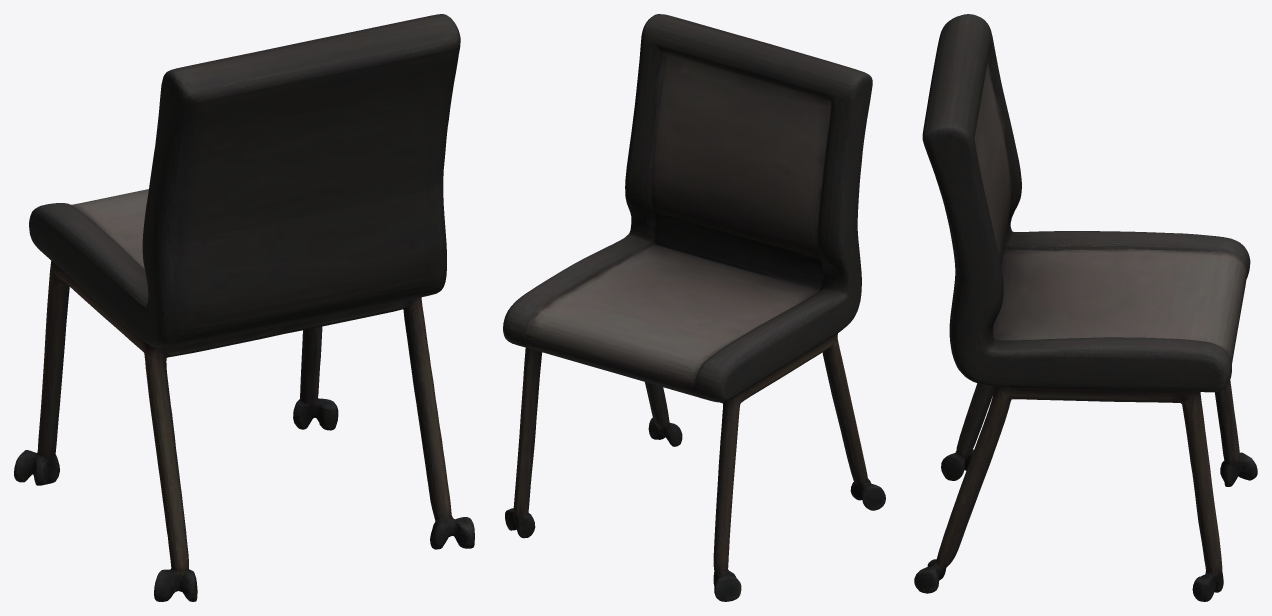
The model's file is black_mesh_office_chair_at_far_end_of_table_000.glb.
3 renders of one model, left to right at view 1: azimuth 30°, elevation 25°; view 2: azimuth 150°, elevation 25°; view 3: azimuth 270°, elevation 25°, orthographic. The views are drawn at different scales.
Parts seen in each view (by area): view 1: phase2_final_black_mesh_office_chair_at_far_end_of_table_000; view 2: phase2_final_black_mesh_office_chair_at_far_end_of_table_000; view 3: phase2_final_black_mesh_office_chair_at_far_end_of_table_000.
Part boxes in pixels (x1=…): phase2_final_black_mesh_office_chair_at_far_end_of_table_000: x1=14, y1=14, x2=474, y2=601; phase2_final_black_mesh_office_chair_at_far_end_of_table_000: x1=503, y1=14, x2=885, y2=601; phase2_final_black_mesh_office_chair_at_far_end_of_table_000: x1=914, y1=14, x2=1257, y2=601.
Size of the model in its own units: 0.3795 by 0.59 by 0.3962.
1 material, 1 textured.
